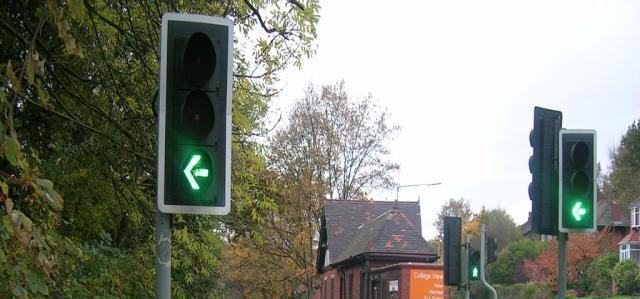green_light: (158, 12, 233, 215), (559, 129, 597, 231)
